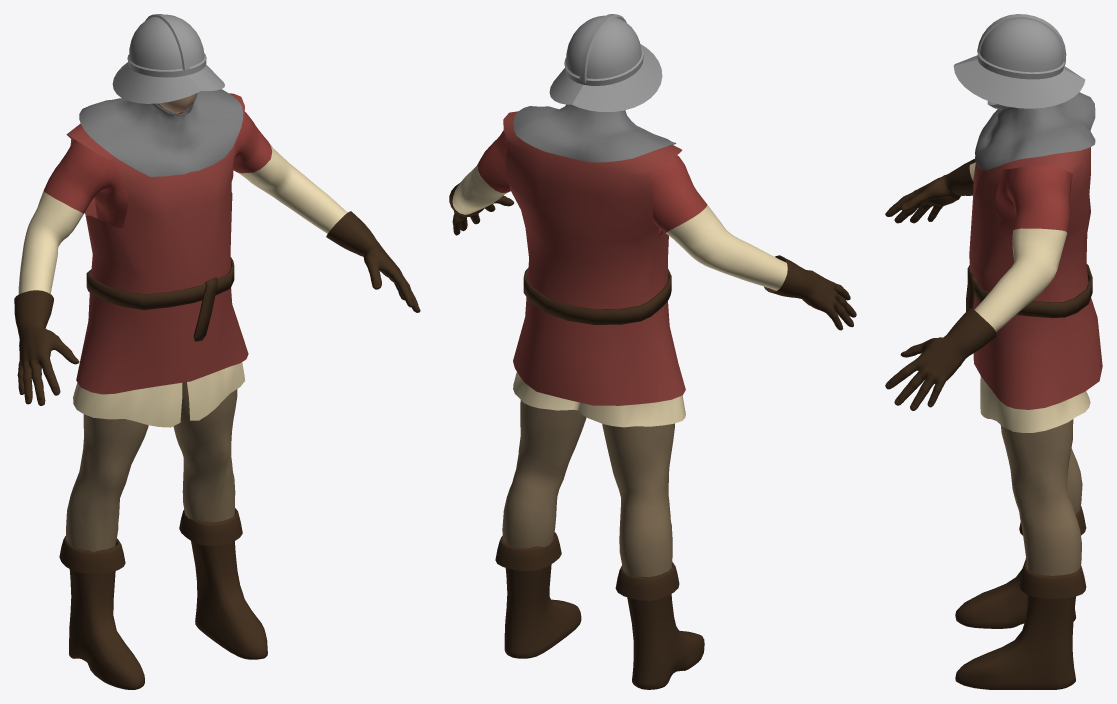
The model's file is Armored.fbx.
The picture shows the model from 3 angles, left to right: view 1: azimuth 30°, elevation 25°; view 2: azimuth 150°, elevation 25°; view 3: azimuth 270°, elevation 25°; orthographic projection.
Parts seen in each view (by area): view 1: Wappenrock, Gambeson, Pants, Chainmail, Stiefel L.002, Stiefel L, Helm Var 1 Crease, Handschuh R, Wappenrock.001, Handschuh L; view 2: Wappenrock, Pants, Gambeson, Helm Var 1 Crease, Stiefel L, Stiefel L.002, Chainmail, Handschuh R, Wappenrock.001, Handschuh L; view 3: Wappenrock, Gambeson, Pants, Stiefel L, Helm Var 1 Crease, Chainmail, Handschuh L, Stiefel L.002, Handschuh R, Wappenrock.001.
Part boxes in pixels (bbox=[...]): Wappenrock: bbox=[66, 93, 248, 394]; Gambeson: bbox=[18, 111, 347, 427]; Pants: bbox=[66, 382, 237, 552]; Chainmail: bbox=[79, 89, 242, 176]; Stiefel L.002: bbox=[59, 536, 144, 689]; Stiefel L: bbox=[179, 508, 267, 659]; Helm Var 1 Crease: bbox=[112, 14, 224, 103]; Handschuh R: bbox=[14, 290, 79, 405]; Wappenrock.001: bbox=[86, 257, 234, 341]; Handschuh L: bbox=[326, 211, 420, 312]; Wappenrock: bbox=[503, 111, 685, 405]; Pants: bbox=[502, 400, 674, 577]; Gambeson: bbox=[452, 130, 787, 427]; Helm Var 1 Crease: bbox=[549, 14, 662, 111]; Stiefel L: bbox=[495, 532, 581, 658]; Stiefel L.002: bbox=[615, 562, 704, 689]; Chainmail: bbox=[513, 104, 676, 162]; Handschuh R: bbox=[764, 255, 856, 330]; Wappenrock.001: bbox=[523, 268, 671, 324]; Handschuh L: bbox=[449, 183, 514, 235]; Wappenrock: bbox=[969, 147, 1102, 409]; Gambeson: bbox=[969, 162, 1090, 432]; Pants: bbox=[1000, 419, 1082, 575]; Stiefel L: bbox=[955, 562, 1086, 689]; Helm Var 1 Crease: bbox=[953, 14, 1085, 108]; Chainmail: bbox=[975, 92, 1095, 170]; Handschuh L: bbox=[885, 308, 996, 410]; Stiefel L.002: bbox=[955, 506, 1086, 628]; Handschuh R: bbox=[885, 159, 975, 223]; Wappenrock.001: bbox=[966, 264, 1092, 317].
Bounding box in the file's own units: 1170 × 1816 × 562.
